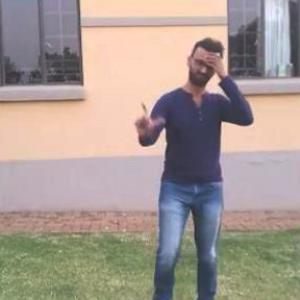land_hand: (129, 92, 169, 138)
